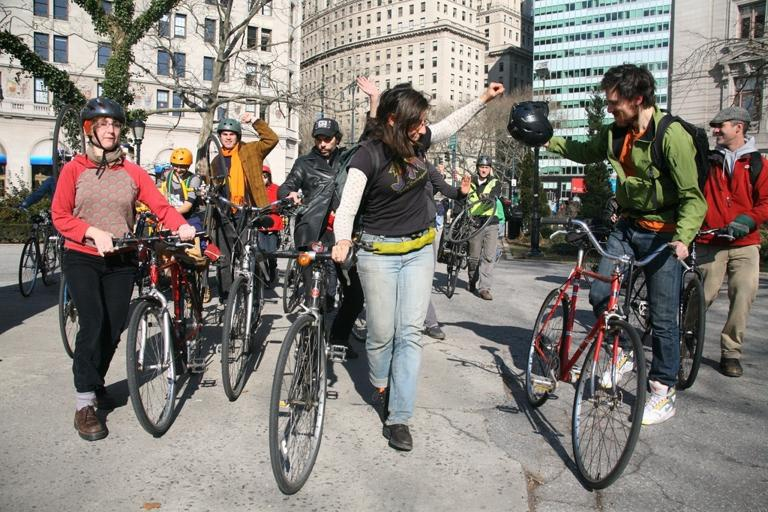non-vehicle: (522, 215, 693, 488), (262, 248, 359, 494), (194, 189, 306, 401), (107, 231, 215, 434), (613, 228, 739, 388), (438, 188, 498, 297), (18, 201, 59, 299), (52, 257, 81, 359)
